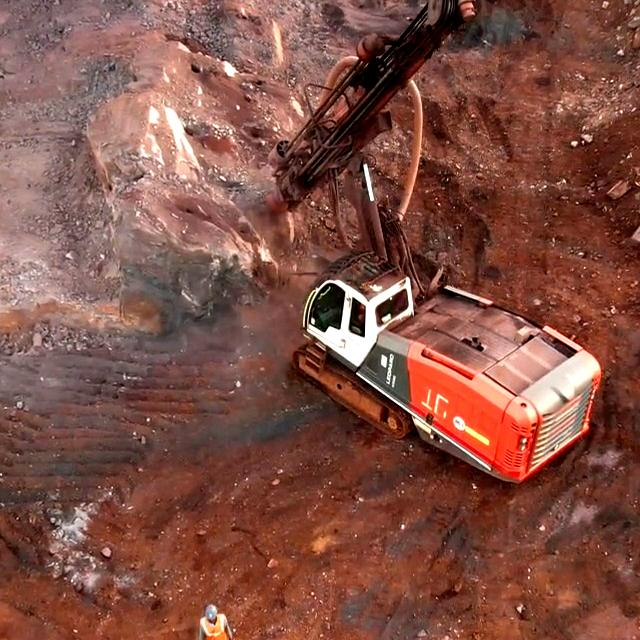Blast rig: (312, 293, 599, 454)
person: (199, 604, 233, 640)
